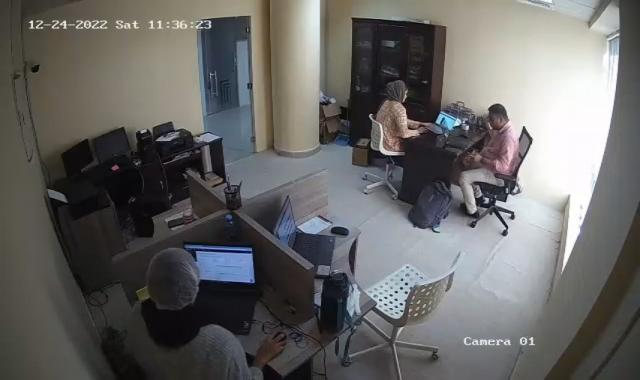hairnet: (142, 243, 198, 318)
no_hairnet: (386, 78, 409, 108), (488, 102, 510, 132)
